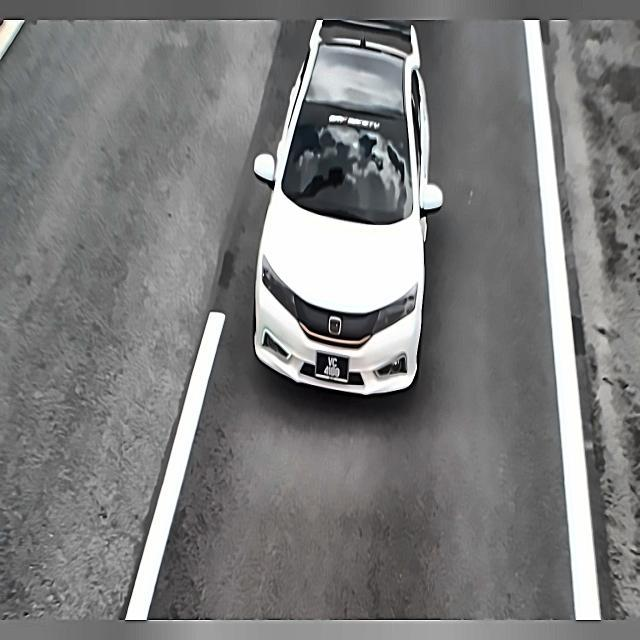car: (316, 349, 349, 386)
